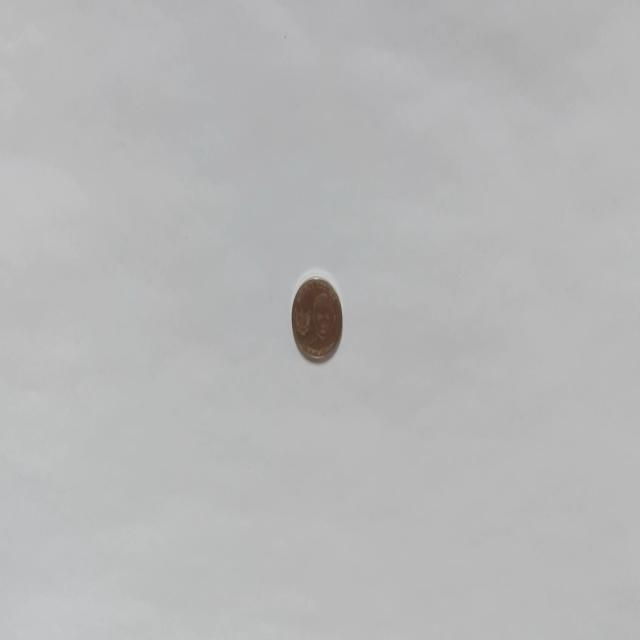seribu rupiah koin: (290, 271, 343, 364)
